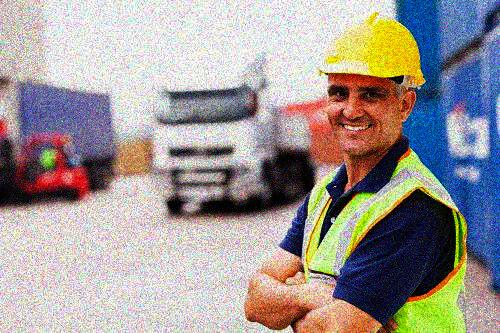helmet: (314, 12, 426, 156)
